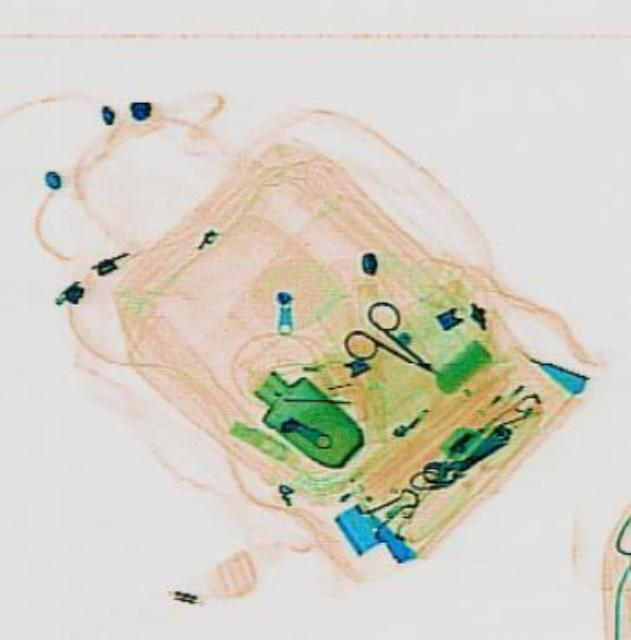Scissors: (335, 292, 458, 401)
